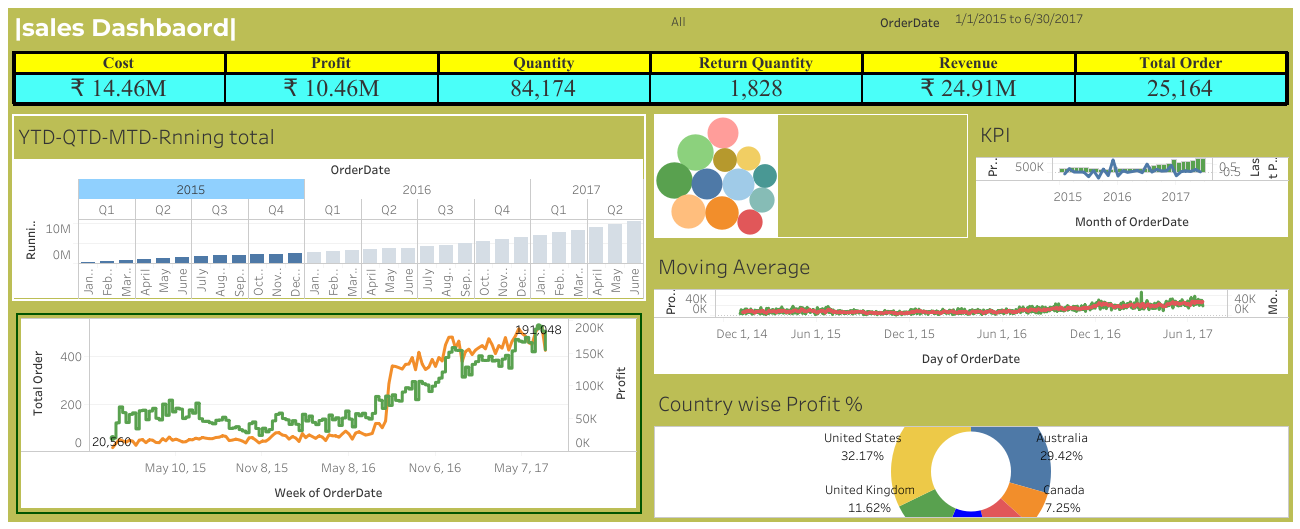

What the dashboard file says about the page in this screenshot:
{"tool":"tableau","page":{"name":"Dashboard 1","canvas":[1000,1000],"units":"permille","ordinal":0},"visuals":[{"type":"title","box":[6.9,14.7,986.1,68]},{"type":"filter","title":"Monthly country Revenue","param":"[federated.00yg6ks1p3sku61dbfizd1hsodvo].[none:OrderDate:qk]","box":[676.5,16.2,314,50.1]},{"type":"filter","title":"Monthly country Revenue","param":"[federated.00yg6ks1p3sku61dbfizd1hsodvo].[none:CategoryName:nk]","box":[514.3,23.6,154.8,38.3]},{"type":"worksheet","title":"Card","mark":"Automatic","box":[6.9,82.7,986.1,119.5]},{"type":"worksheet","title":"YTD-QTD-MTD-Rnning total","mark":"Bar","cols":["OrderDate","OrderDate","OrderDate"],"box":[6.9,202.2,493,370.6]},{"type":"worksheet","title":"Monthly country Revenue","mark":"Circle","box":[499.9,202.2,246.6,250.8]},{"type":"worksheet","title":"KPI","mark":"Automatic","rows":["Calculation_663717997759844355","Calculation_503277262450171904"],"cols":["OrderDate"],"box":[746.5,202.2,246.6,250.8]},{"type":"worksheet","title":"Moving Average","mark":"Automatic","rows":["Calculation_663717997759844355"],"cols":["OrderDate"],"box":[499.9,453,493.2,261.4]},{"type":"worksheet","title":"Weekly order/Profit flow","mark":"Automatic","rows":["Calculation_973340473933398026","Calculation_663717997759844355"],"cols":["OrderDate"],"box":[6.9,572.8,493,412.5]},{"type":"worksheet","title":"Country wise Profit %","mark":"Pie","rows":["Calculation_503277262471745548","Calculation_503277262471745548"],"box":[499.9,714.4,493.2,270.9]}]}

Visuals, with their boxes on the dashboard's canvas, which has no fixed pixel size, in thousandths of its width and height (x1, y1, x2, y2). These are canvas units, not pixel positions in the 1300x529 screenshot, which may show the page scaled, cropped or inside an application window:
title: [x1=7, y1=15, x2=993, y2=83]
"Monthly country Revenue" filter: [x1=676, y1=16, x2=990, y2=66]
"Monthly country Revenue" filter: [x1=514, y1=24, x2=669, y2=62]
"Card" worksheet: [x1=7, y1=83, x2=993, y2=202]
"YTD-QTD-MTD-Rnning total" worksheet (Bar marks): [x1=7, y1=202, x2=500, y2=573]
"Monthly country Revenue" worksheet (Circle marks): [x1=500, y1=202, x2=746, y2=453]
"KPI" worksheet: [x1=746, y1=202, x2=993, y2=453]
"Moving Average" worksheet: [x1=500, y1=453, x2=993, y2=714]
"Weekly order/Profit flow" worksheet: [x1=7, y1=573, x2=500, y2=985]
"Country wise Profit %" worksheet (Pie marks): [x1=500, y1=714, x2=993, y2=985]
